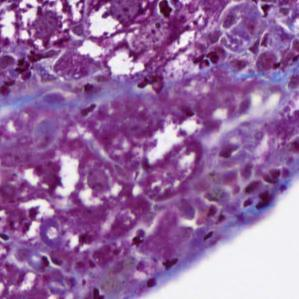inflammation: (187, 37, 231, 76)
